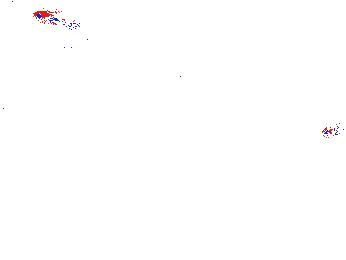X-ray fish: (26, 131, 67, 169)
red belly glassfish: (33, 10, 77, 29), (169, 74, 194, 102), (321, 120, 346, 141)
